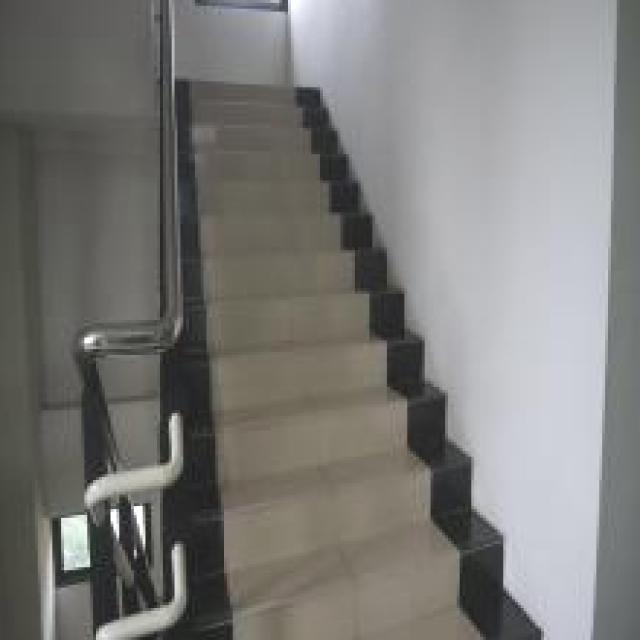upstair: (179, 112, 400, 635)
